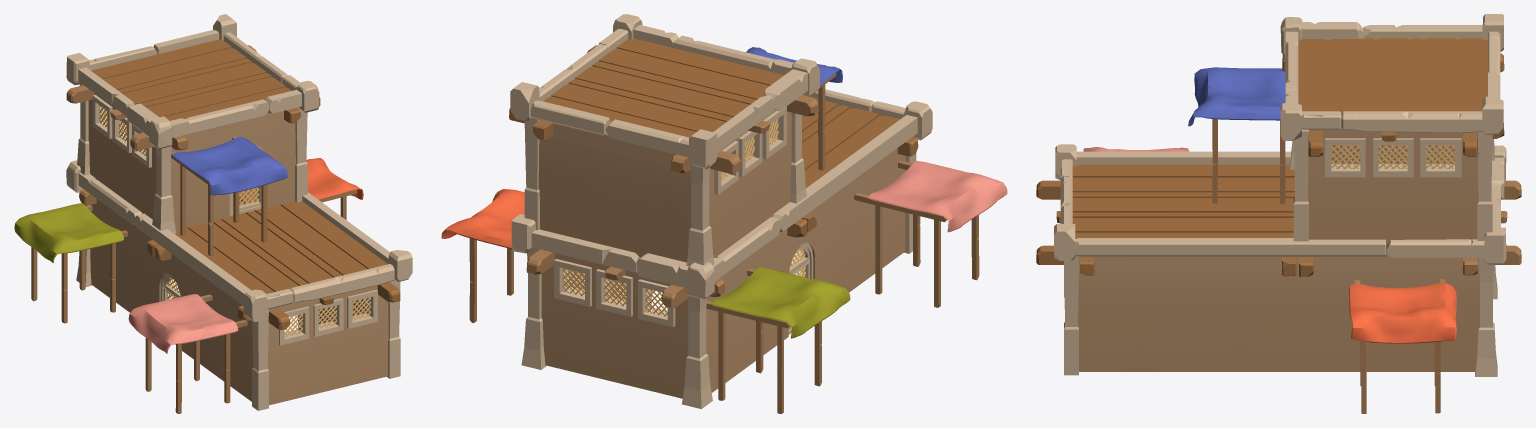
Rendered from Building04.fbx.
3 views of the same model, side by side, from view 1: azimuth 30°, elevation 25°; view 2: azimuth 150°, elevation 25°; view 3: azimuth 270°, elevation 25° (orthographic). The views are drawn at different scales.
Parts seen in each view (by area): view 1: Building04; view 2: Building04; view 3: Building04.
Boxes of the visible parts, x1,y1,x2,y2 form: Building04: (14, 14, 412, 413); Building04: (441, 14, 1007, 413); Building04: (1036, 14, 1521, 413).
Bounding box in the file's own units: 8.48 × 9.47 × 5.93.
